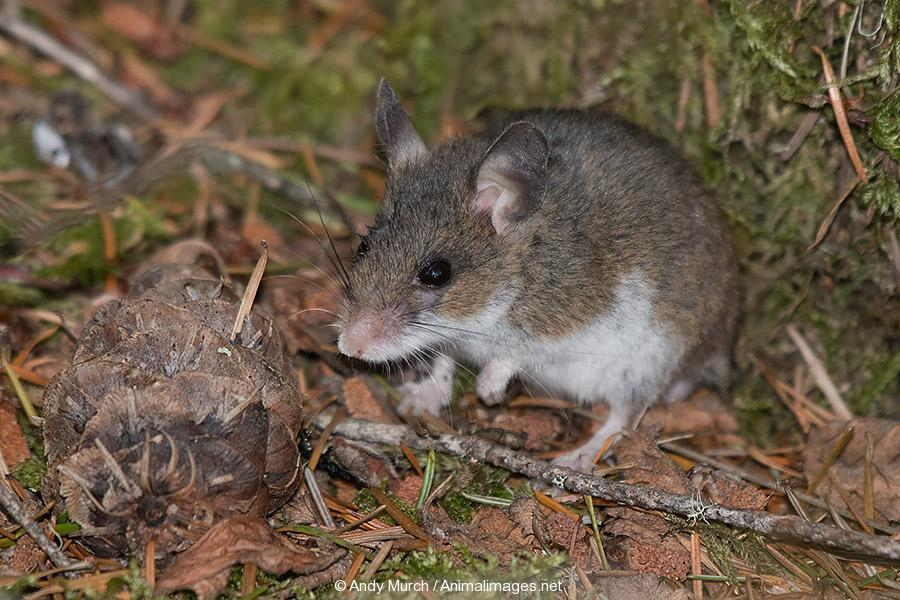rat: (335, 76, 730, 476)
